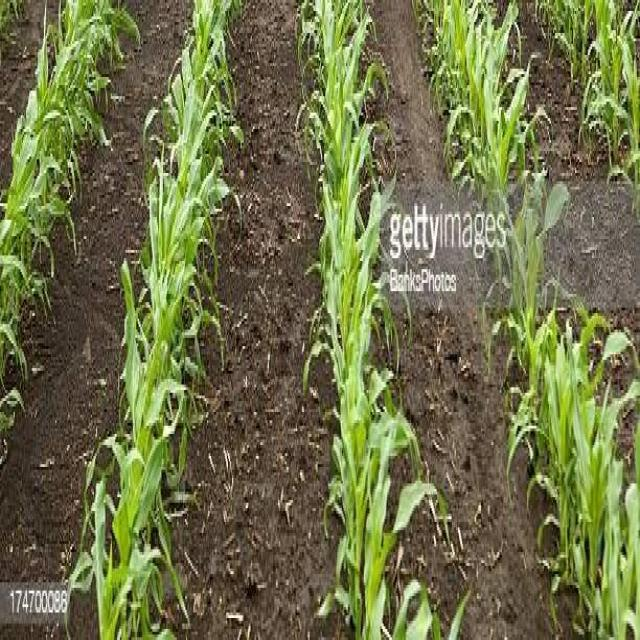row: (362, 0, 609, 640), (160, 0, 359, 640), (0, 0, 193, 637), (492, 1, 640, 544)
